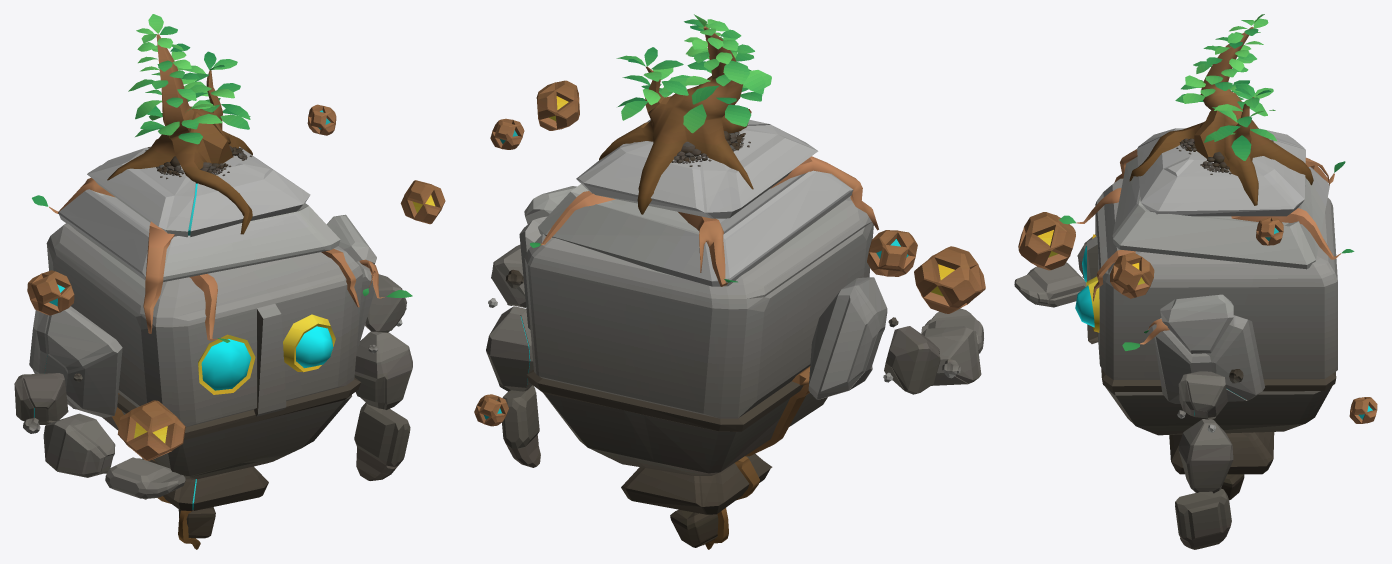
The model's file is BotPierre.fbx.
3 views of the same model, side by side, from view 1: azimuth 30°, elevation 25°; view 2: azimuth 150°, elevation 25°; view 3: azimuth 270°, elevation 25° (orthographic). The views are drawn at different scales.
Parts seen in each view (by area): view 1: Bot; view 2: Bot; view 3: Bot.
Boxes of the visible parts, bbox=[...] form: Bot: bbox=[14, 14, 445, 549]; Bot: bbox=[474, 14, 985, 549]; Bot: bbox=[1014, 14, 1377, 549].
Size of the model in its own units: 1.58 by 1.92 by 1.31.
Materials: 1 (1 with a texture image).
